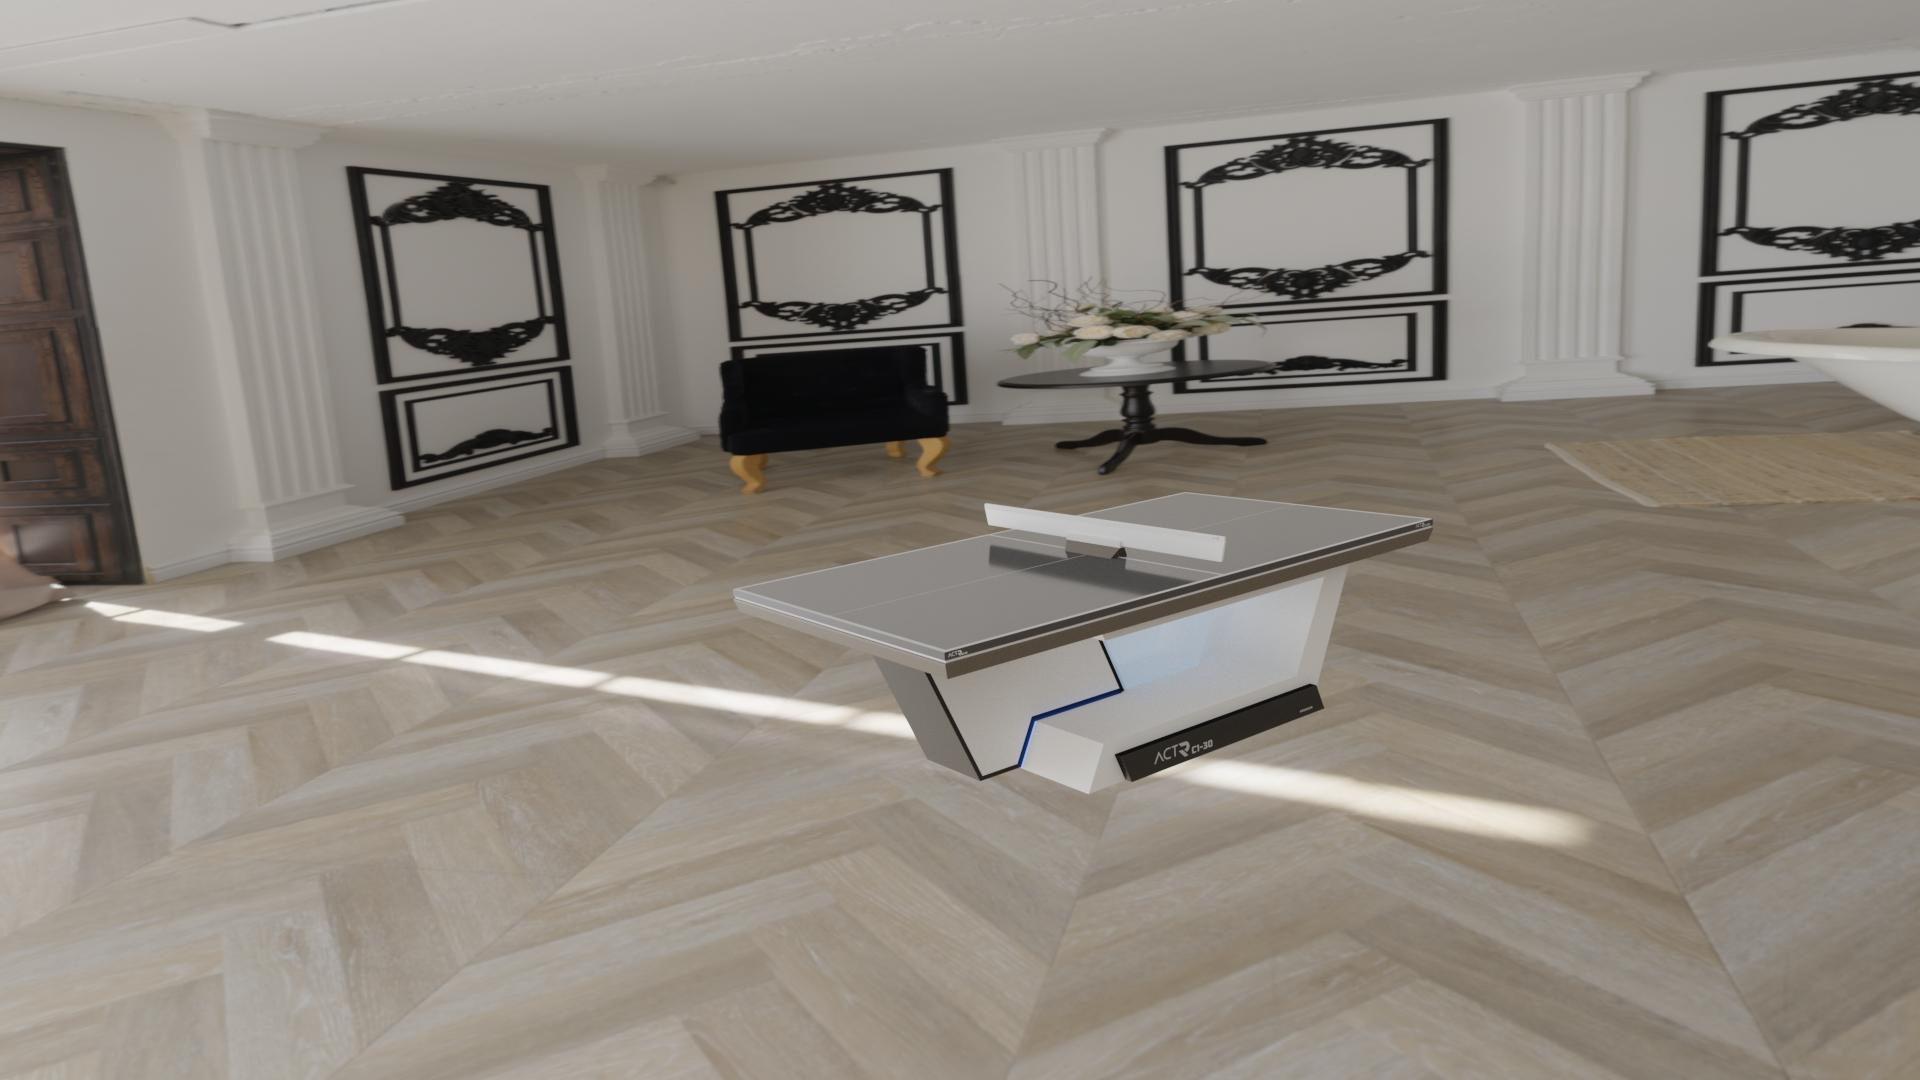table: (738, 493, 1427, 650)
